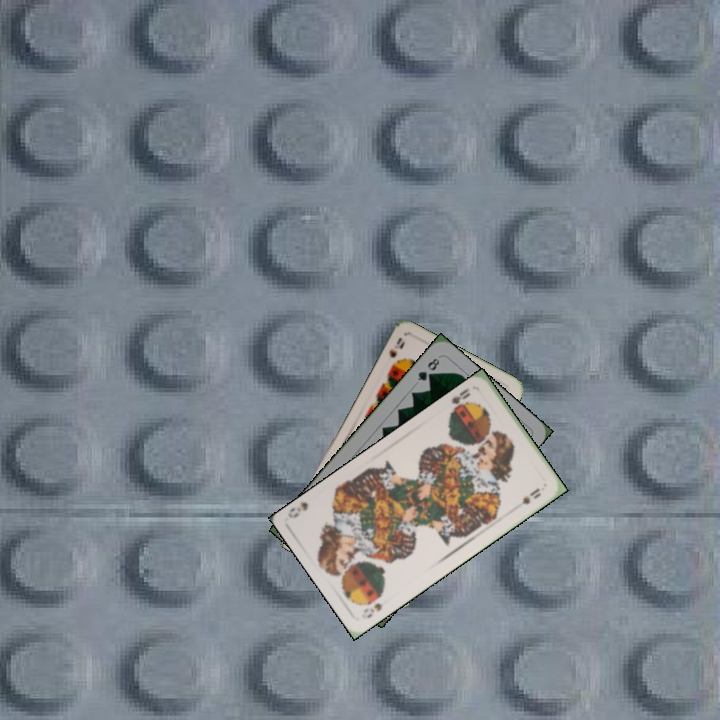G8: (413, 354, 442, 384)
S9: (385, 333, 408, 360)
SO: (446, 384, 473, 418), (359, 599, 386, 621)
